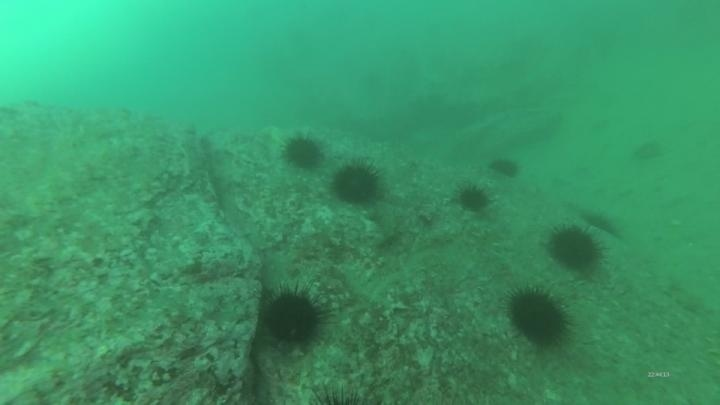echinus: (259, 283, 329, 351), (504, 284, 573, 350), (545, 222, 606, 275), (329, 159, 384, 207), (281, 132, 326, 172), (581, 208, 624, 240), (454, 182, 493, 214), (487, 154, 522, 180), (632, 137, 665, 163)
